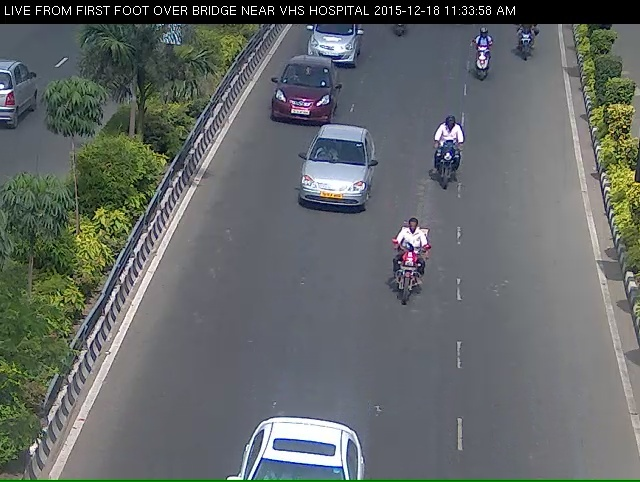Car: (294, 139, 372, 235), (272, 64, 333, 138), (292, 24, 368, 73), (298, 25, 366, 74)
Person: (379, 239, 441, 348), (423, 127, 481, 223), (509, 22, 560, 73), (467, 31, 498, 98)
